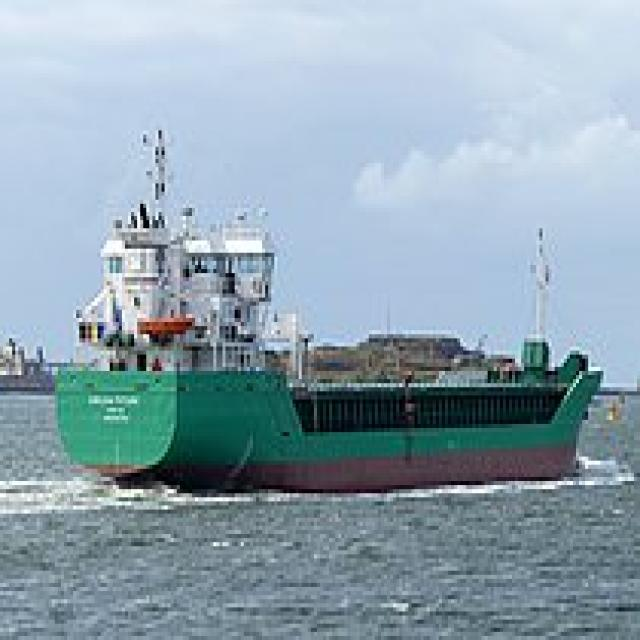Cargo: (46, 122, 603, 494)
